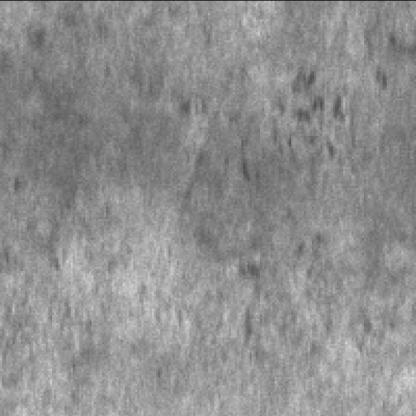rolled-in_scale: (248, 30, 397, 166)
